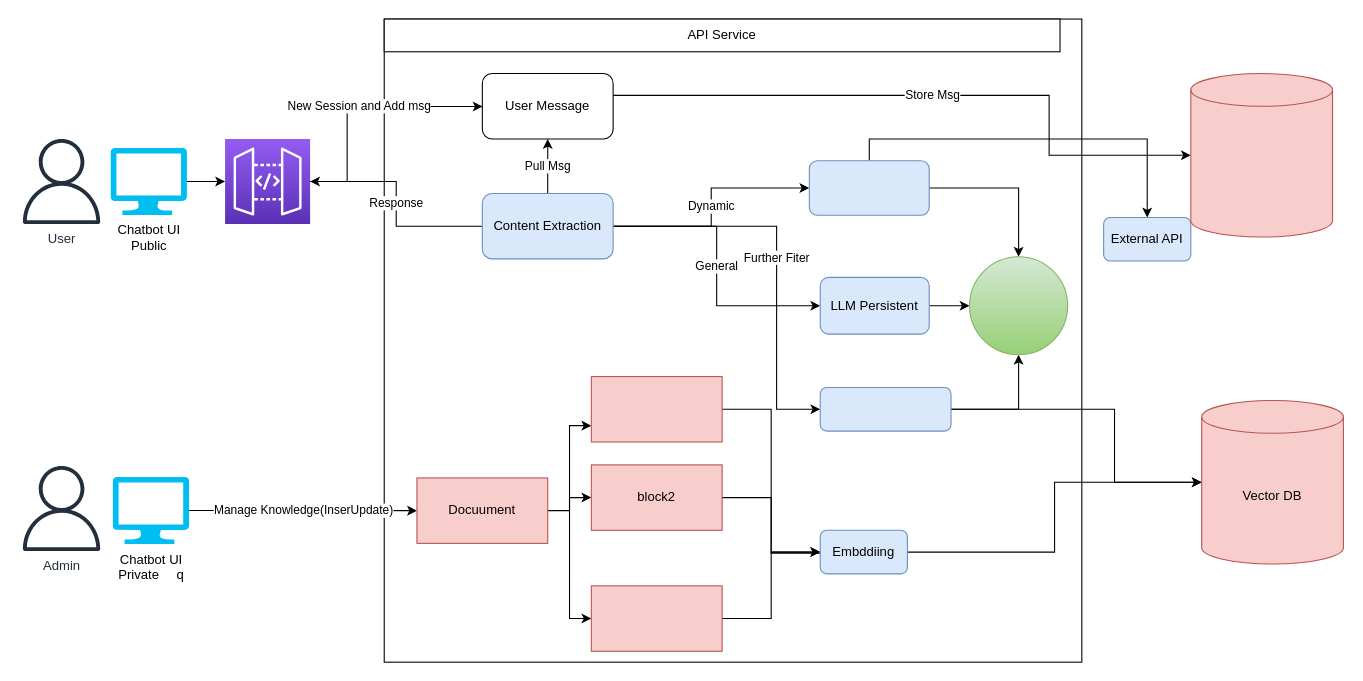
This 1363x681 diagram has some shape labels left out. Here are the shapes that lost their labels. From the top down, the box of each, then its label:
(1190, 72, 1333, 237): Postgress SQL
(808, 160, 929, 215): Extract
(968, 256, 1068, 355): Create Response
(590, 376, 722, 442): block1
(819, 386, 951, 431): LLM On Knowledge base
(590, 585, 722, 651): block n
